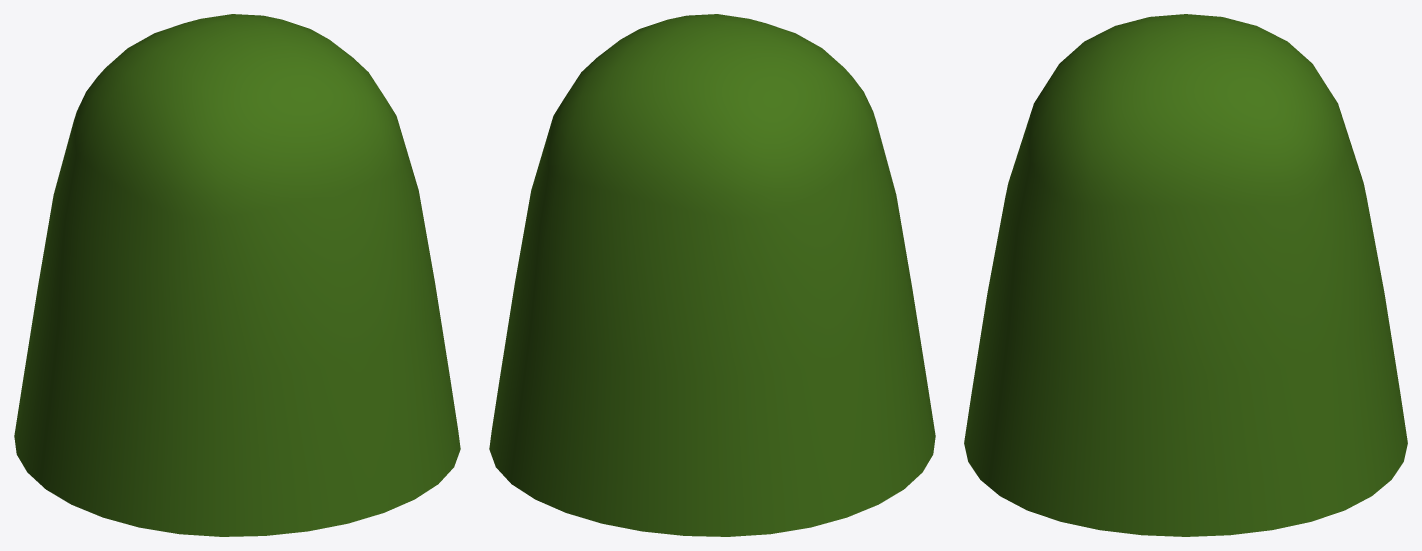
The model's file is mountain1.fbx.
3 views of the same model, side by side, from view 1: azimuth 30°, elevation 25°; view 2: azimuth 150°, elevation 25°; view 3: azimuth 270°, elevation 25° (orthographic).
Visible parts, largest first — view 1: Cube.019; view 2: Cube.019; view 3: Cube.019.
Boxes of the visible parts, left/top/right/bottom form: Cube.019: left=14, top=14, right=460, bottom=536; Cube.019: left=489, top=14, right=935, bottom=536; Cube.019: left=964, top=14, right=1407, bottom=536.
Size of the model in its own units: 19.28 by 19.28 by 19.66.
